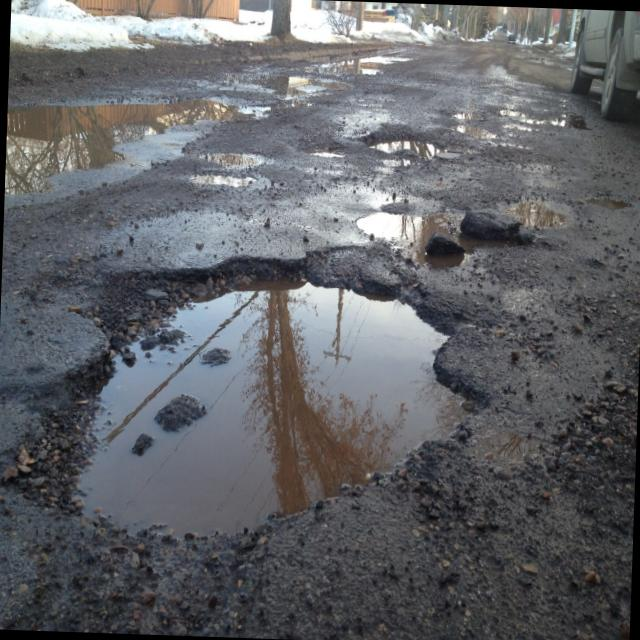Potholes: (0, 234, 488, 556), (4, 67, 288, 228), (350, 187, 580, 278), (492, 91, 610, 155), (360, 115, 462, 181)
